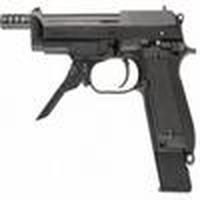gun: (1, 9, 200, 194)
